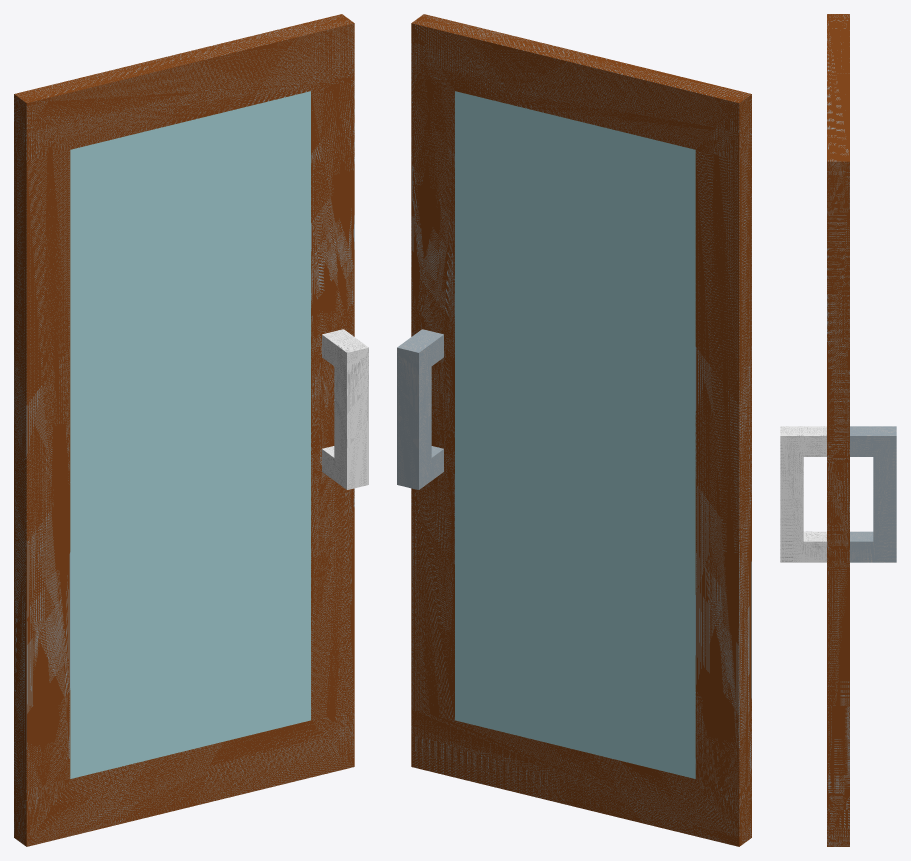
Rendered from door1.fbx.
3 renders of one model, left to right at view 1: azimuth 30°, elevation 25°; view 2: azimuth 150°, elevation 25°; view 3: azimuth 270°, elevation 25°, orthographic. The views are drawn at different scales.
Parts seen in each view (by area): view 1: Mesh1_Door_4_1 Model; view 2: Mesh1_Door_4_1 Model; view 3: Mesh1_Door_4_1 Model.
Part boxes in pixels (bbox=[...]): Mesh1_Door_4_1 Model: bbox=[14, 14, 368, 846]; Mesh1_Door_4_1 Model: bbox=[397, 14, 751, 846]; Mesh1_Door_4_1 Model: bbox=[780, 14, 896, 846].
Bounding box in the file's own units: 0.3 × 0.65 × 0.1.
